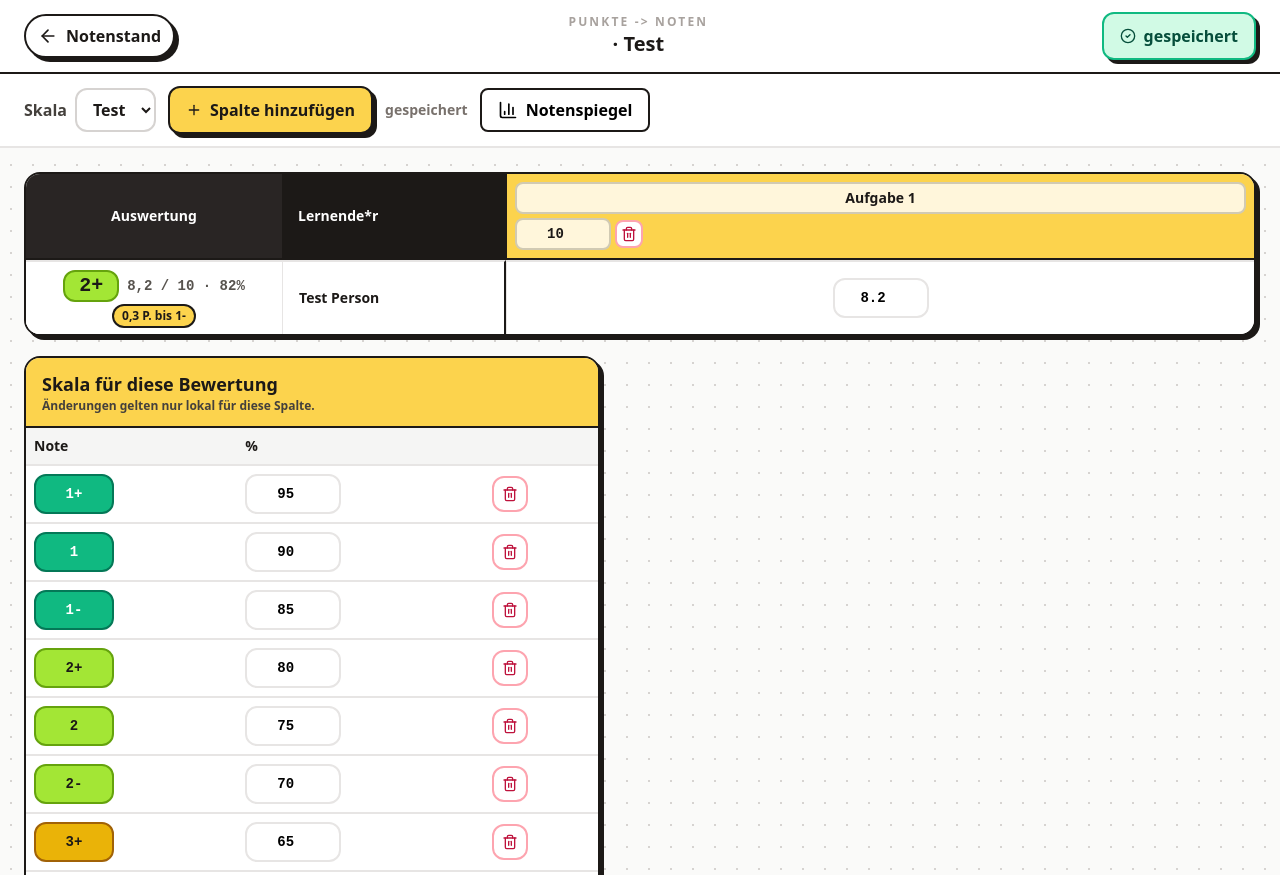
Test case: toggles distribution without losing entered scores: grades_1_6 / sonstige
Later steps or results of the test are not shown.
What coordinates should you click on to do the following:
click the button "Notenspiegel"
I would click on:
 (565, 110)
Its box is [480, 88, 650, 132].
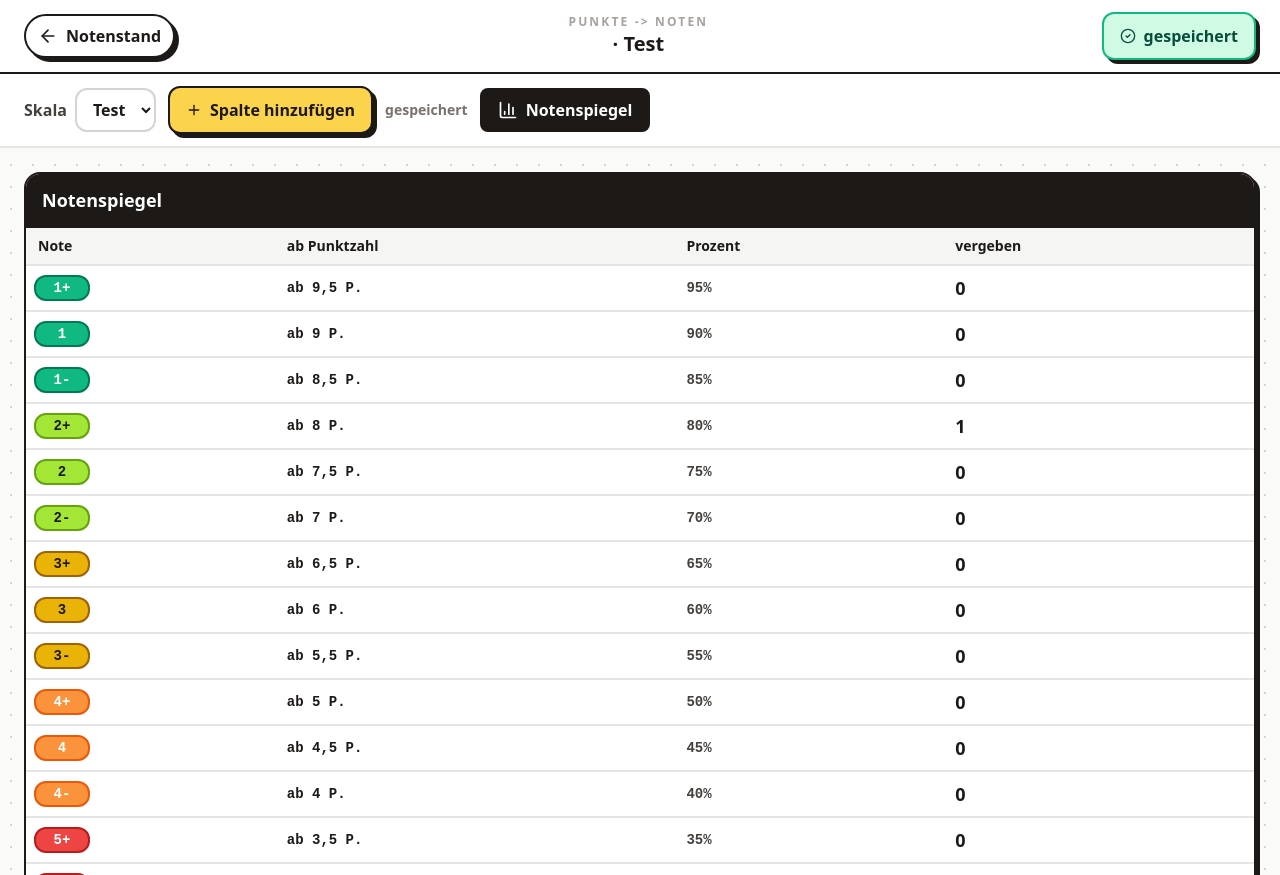
Expected: the text "2+" is shown, [54, 419, 70, 433]
Result: the button "Notenspiegel" is pressed at [480, 88, 650, 132]
